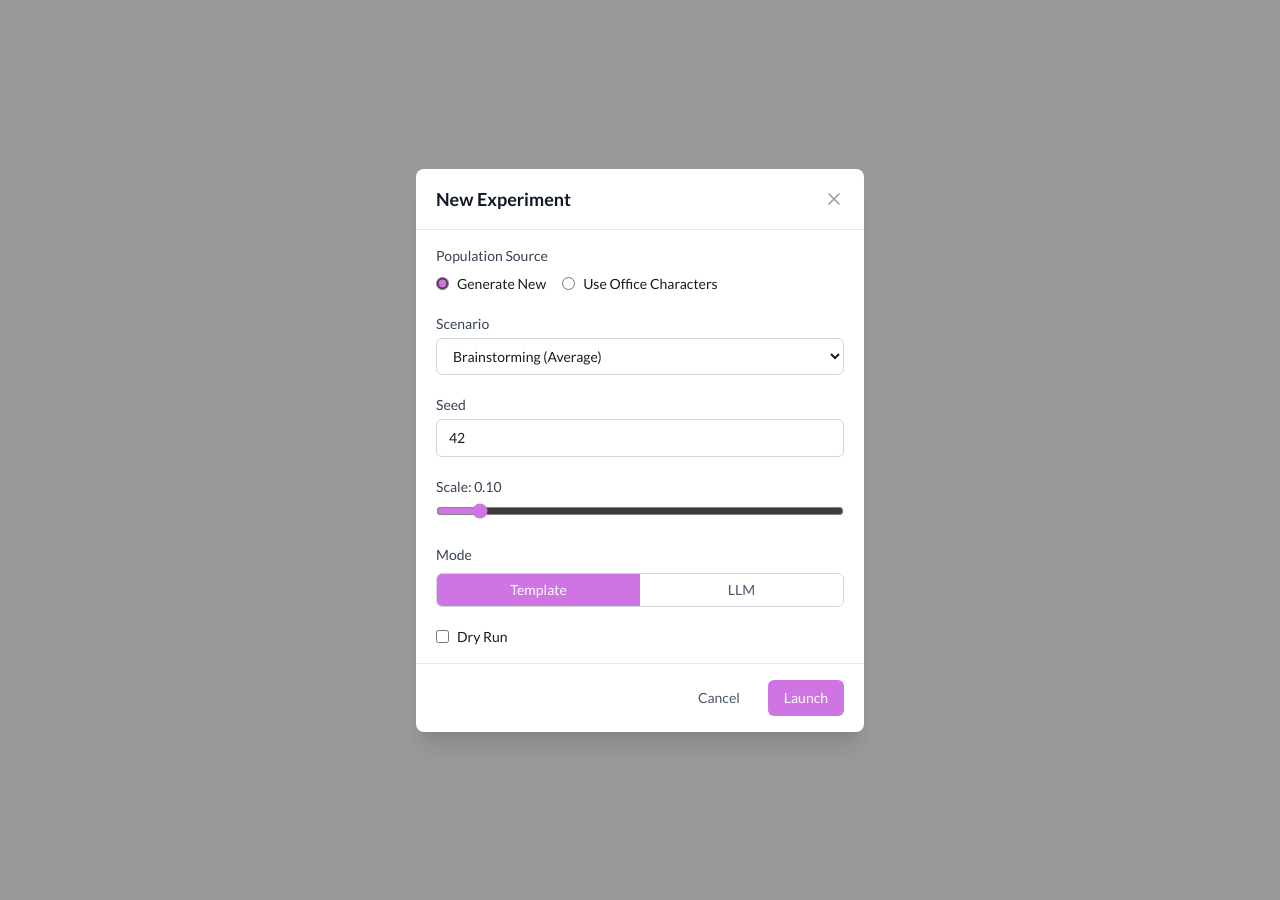
it: ExperimentLaunchDialog › population source radio buttons toggle correctly
What coordinates should you click on to do the following:
click the radio button labelled "Use Office Characters"
I would click on:
 (569, 284)
Its box is [562,277,575,290].
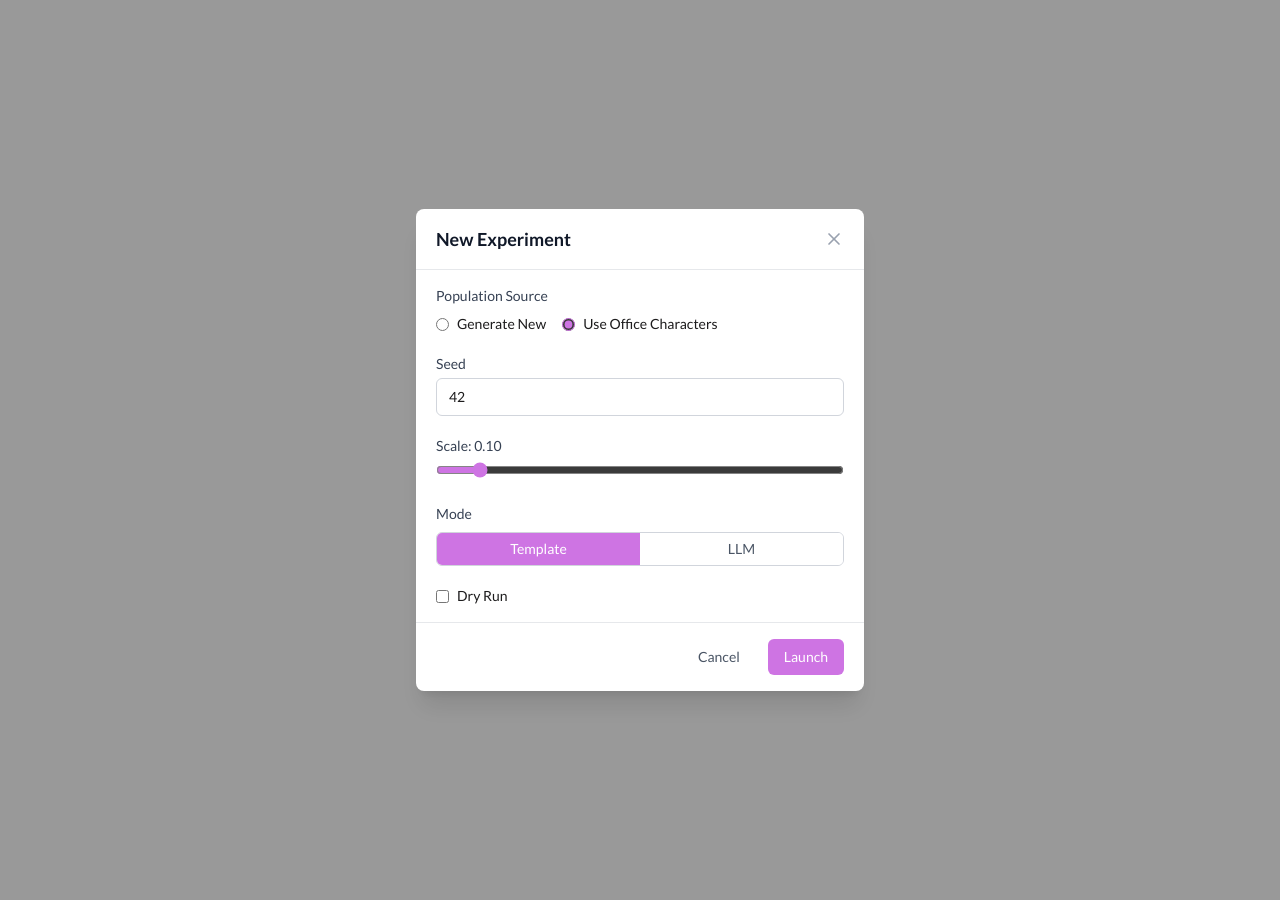
Expected: the dropdown with test id "scenario-select" is gone
